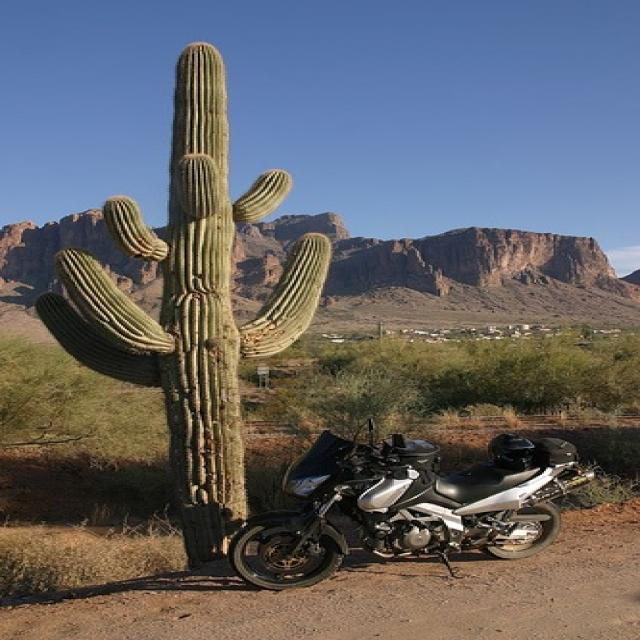motorbike: (229, 425, 594, 593)
